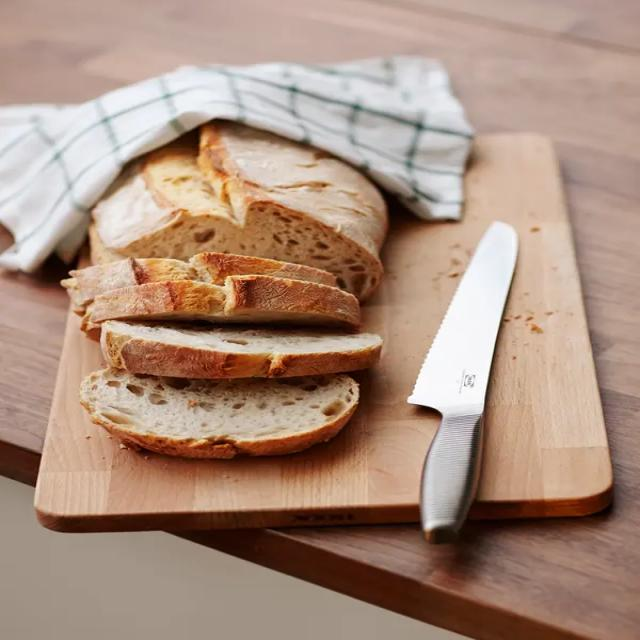Knife: (407, 222, 517, 543)
